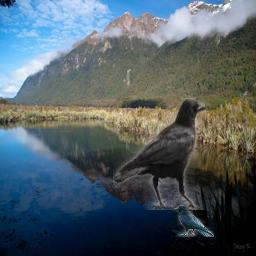Crow: (113, 98, 205, 210), (174, 205, 214, 237)
